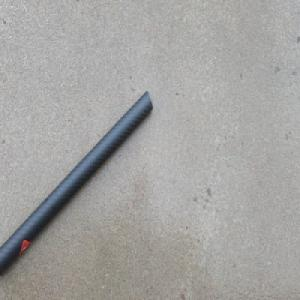LuggagePart: (0, 90, 153, 278)
